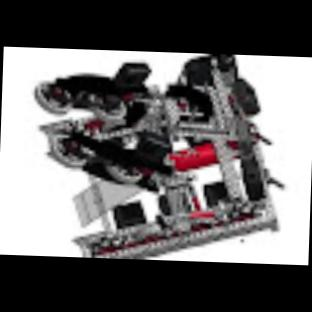Robot: (35, 54, 278, 257)
